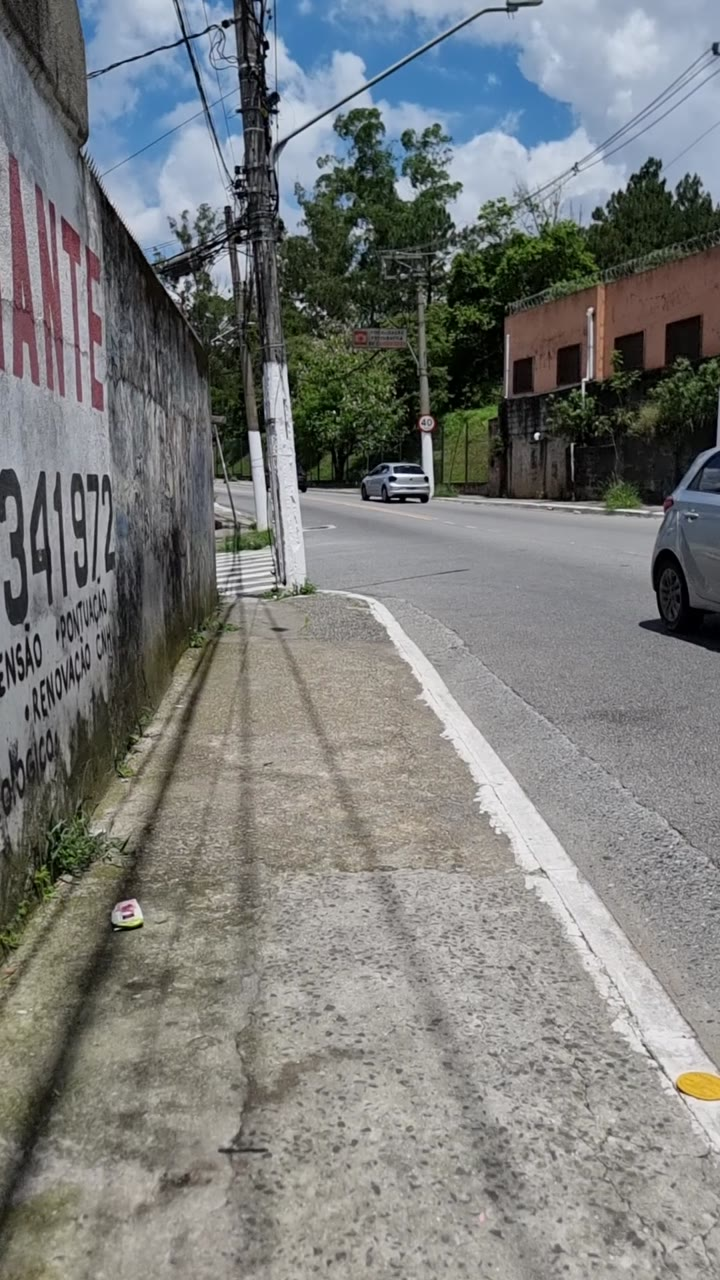obstaculo: (238, 0, 302, 589)
